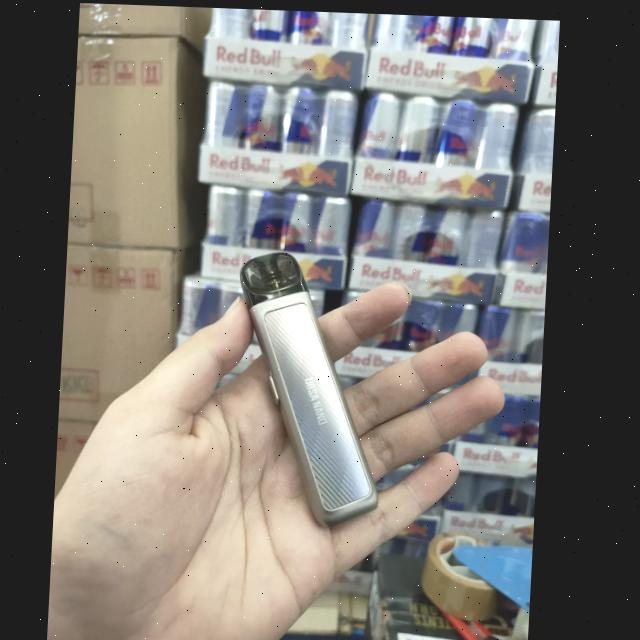vape: (233, 248, 394, 527)
